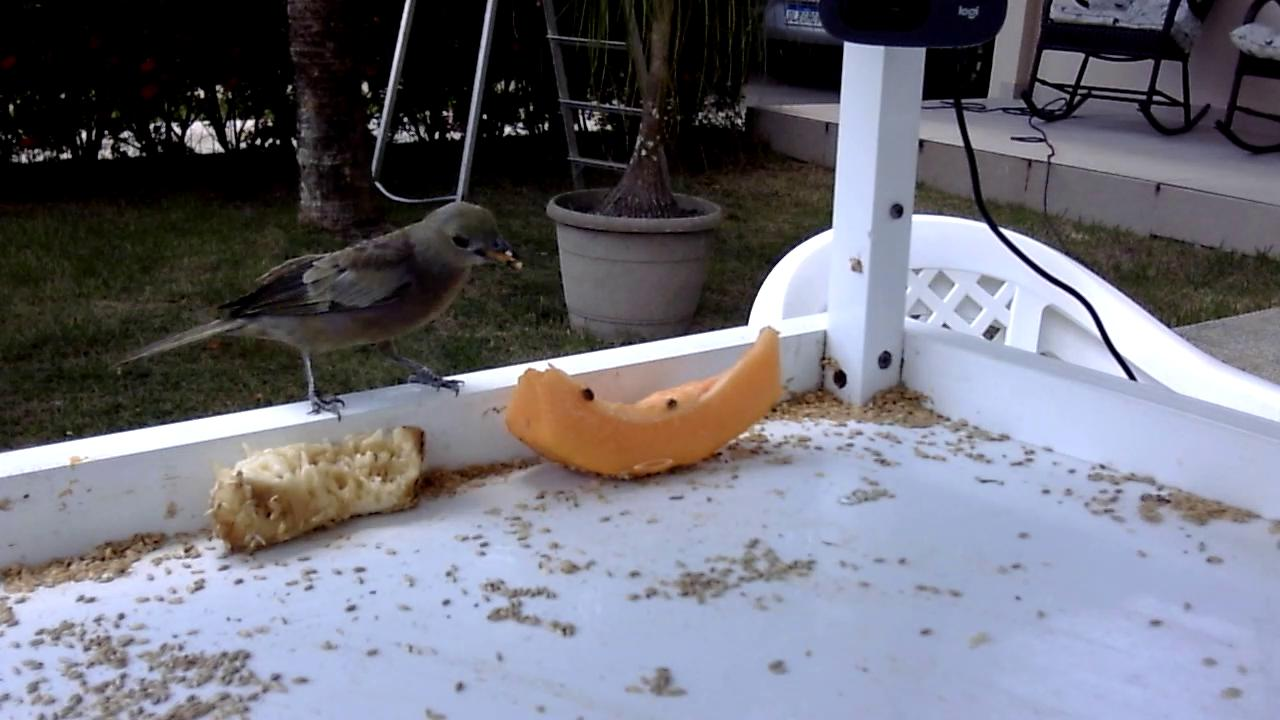sanhaco_do_coqueiro: (114, 201, 527, 429)
